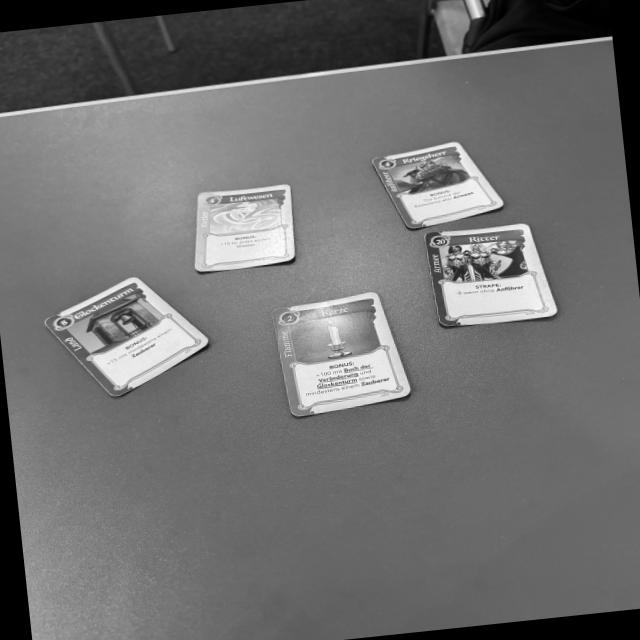Air Elemental: (192, 181, 296, 275)
Candle: (269, 290, 414, 418)
Clock Tower: (42, 275, 210, 398)
Knights: (420, 222, 561, 332)
Warlord: (369, 139, 507, 232)
